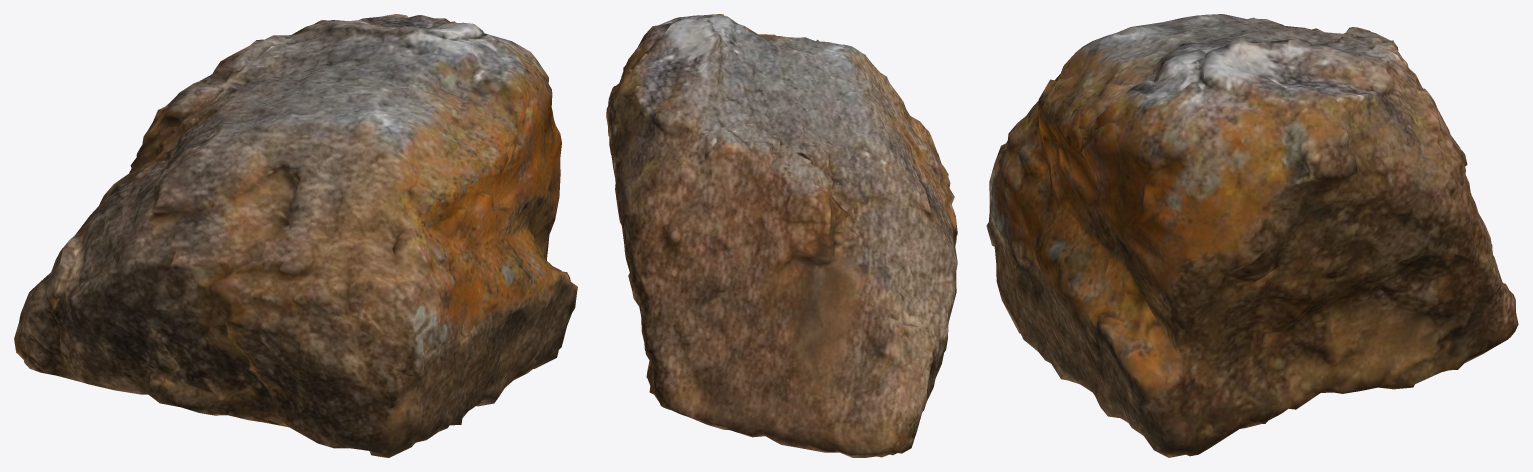
The model's file is rocher_granite_lod0.glb.
3 views of the same model, side by side, from view 1: azimuth 30°, elevation 25°; view 2: azimuth 150°, elevation 25°; view 3: azimuth 270°, elevation 25° (orthographic). The views are drawn at different scales.
Parts seen in each view (by area): view 1: boulder_04; view 2: boulder_04; view 3: boulder_04.
Boxes of the visible parts, x1,y1,x2,y2 form: boulder_04: (14,14,577,457); boulder_04: (606,14,957,457); boulder_04: (986,14,1518,457).
Size of the model in its own units: 2.52 by 1.89 by 2.49.
Materials: 1 (1 with a texture image).
